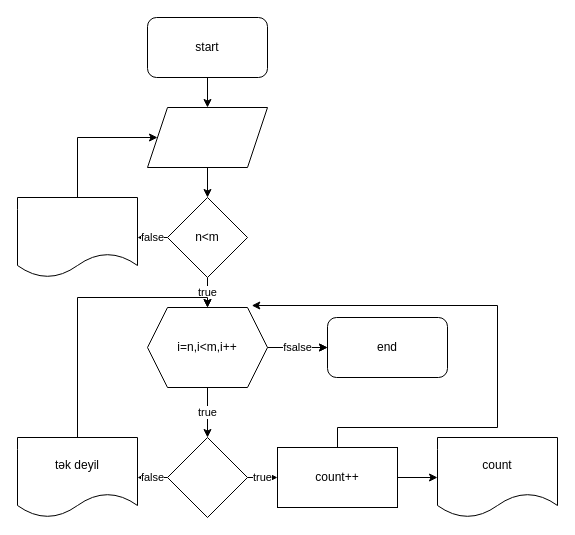
Image size: 575x535. Some labels were removed from this diagram. Each missing label, with the centre of its shape:
düzgün daxil edilməyib: (77,237)
i%2==1: (207,477)
n,m,count=0: (207,137)
